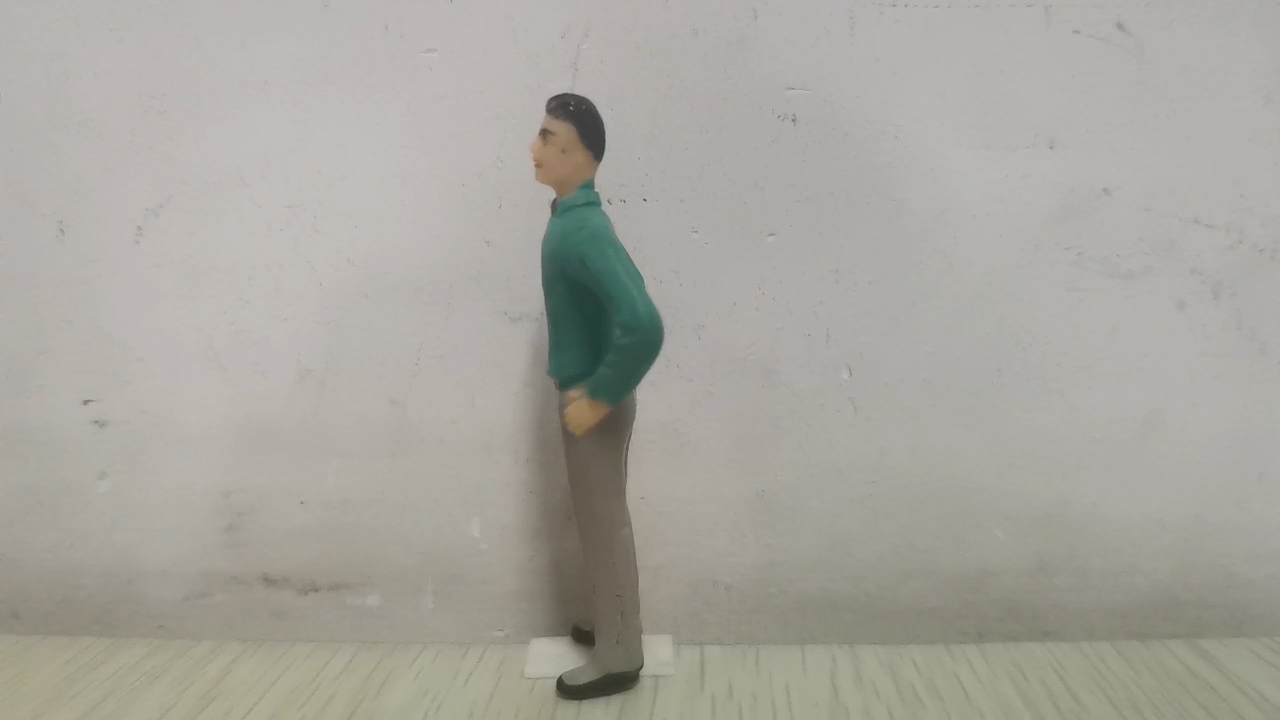person: (529, 90, 666, 700)
